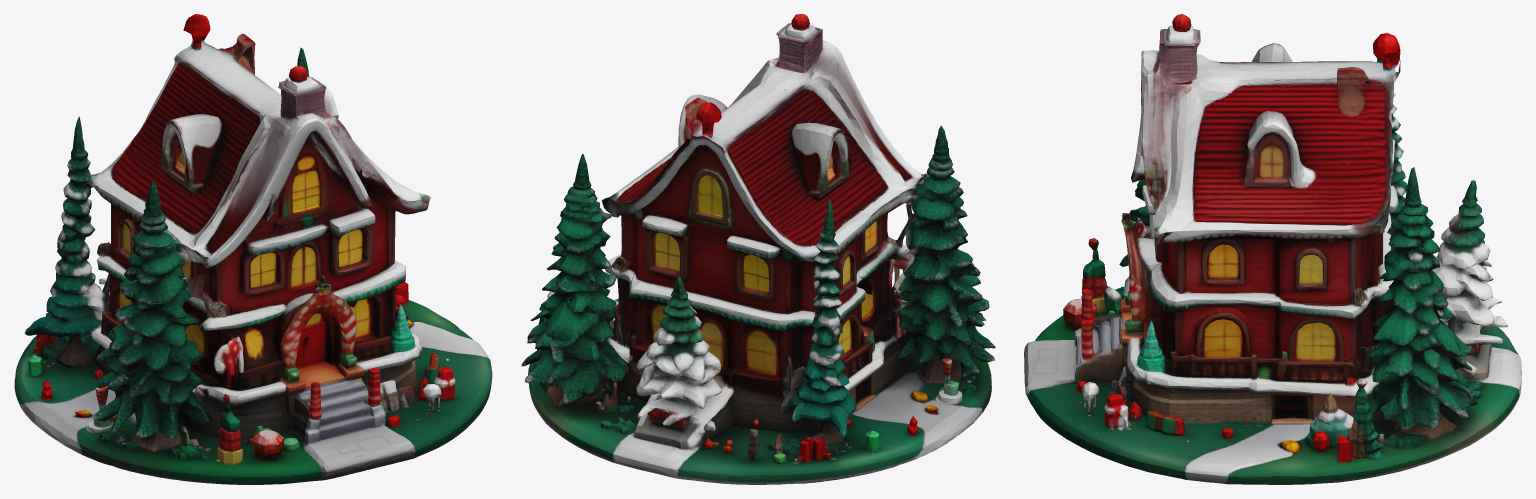
3 renders of one model, left to right at view 1: azimuth 30°, elevation 25°; view 2: azimuth 150°, elevation 25°; view 3: azimuth 270°, elevation 25°, orthographic. The views are drawn at different scales.
Visible parts, largest first — view 1: world; view 2: world; view 3: world.
Part boxes in pixels (x1,y1,x2,y2): world: (14, 14, 492, 484); world: (521, 14, 995, 484); world: (1024, 14, 1521, 484).
Size of the model in its own units: 0.9961 by 0.817 by 1.
1 material, 1 textured.
